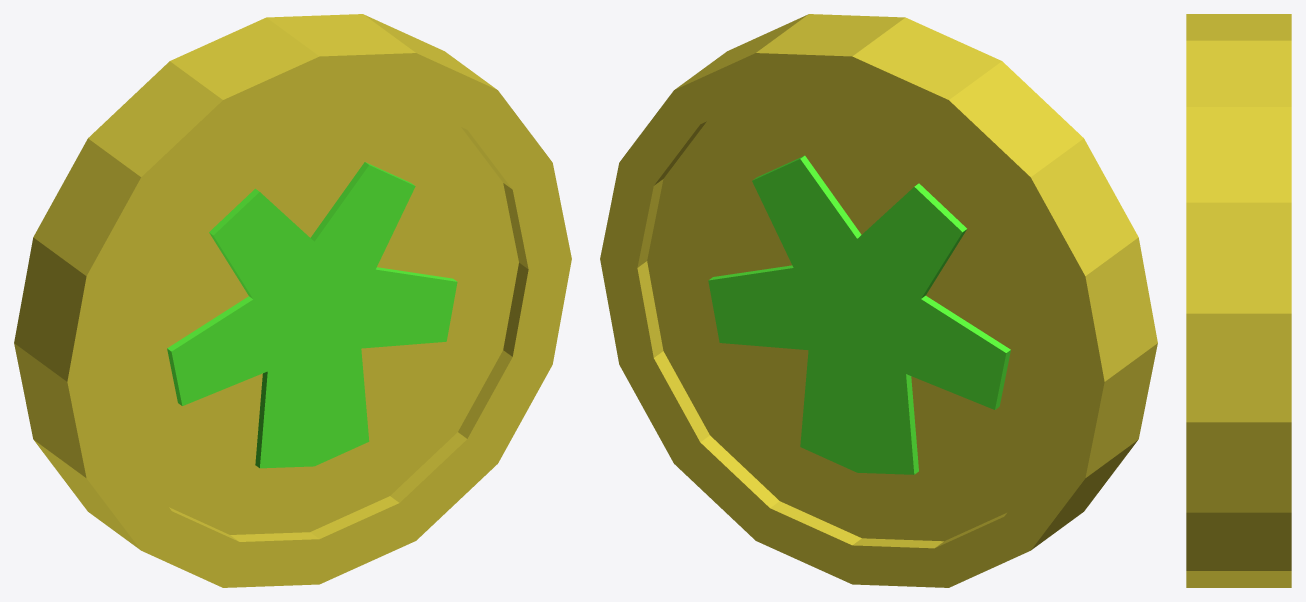
Rendered from forest_coin.fbx.
3 views of the same model, side by side, from view 1: azimuth 30°, elevation 25°; view 2: azimuth 150°, elevation 25°; view 3: azimuth 270°, elevation 25° (orthographic).
Parts seen in each view (by area): view 1: coin; view 2: coin; view 3: coin.
Boxes of the visible parts, x1=… form: coin: x1=14, y1=14, x2=571, y2=587; coin: x1=600, y1=14, x2=1157, y2=587; coin: x1=1186, y1=14, x2=1291, y2=587.
Size of the model in its own units: 200 by 200 by 36.6.
